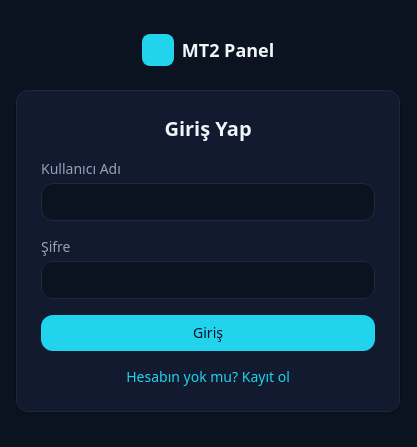
Test: boş submit hata gösterir
Click the button "Giriş" at (208, 333), box [41,315,375,351]
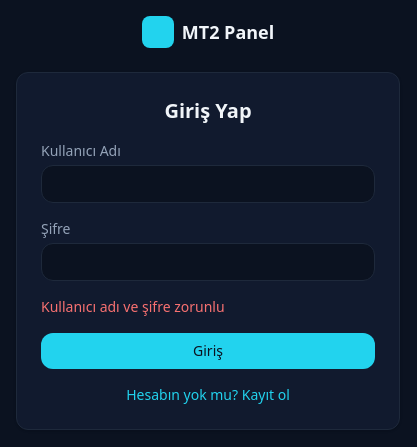
Expected: the text "Kullanıcı adı ve şifre zorunlu" is shown, [41,297,225,316]
